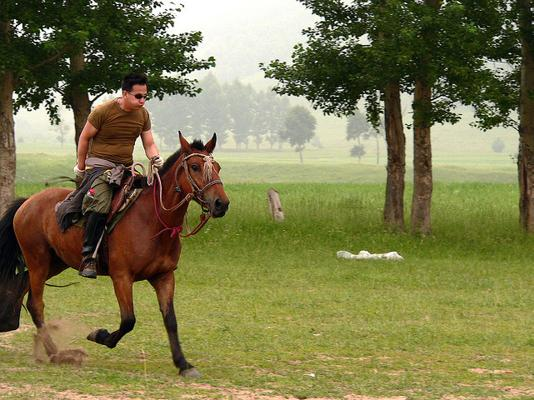person: (75, 71, 163, 281)
